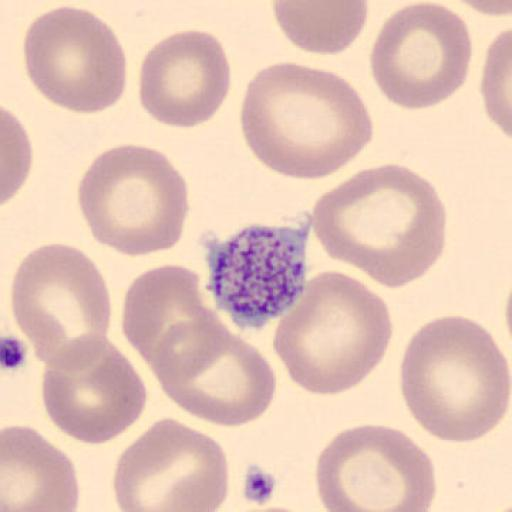Platelet: (204, 220, 312, 333)
RBC: (311, 164, 447, 290), (240, 60, 373, 180), (271, 269, 395, 397), (398, 314, 509, 445), (153, 312, 278, 428), (8, 240, 112, 372), (76, 144, 191, 258), (40, 332, 149, 446), (21, 2, 128, 116), (120, 262, 226, 374), (111, 414, 231, 512), (370, 1, 474, 112), (314, 422, 438, 512), (137, 27, 233, 130), (1, 424, 80, 512), (271, 0, 369, 56), (479, 26, 512, 142), (2, 104, 34, 208), (449, 0, 511, 18), (503, 270, 512, 368)
